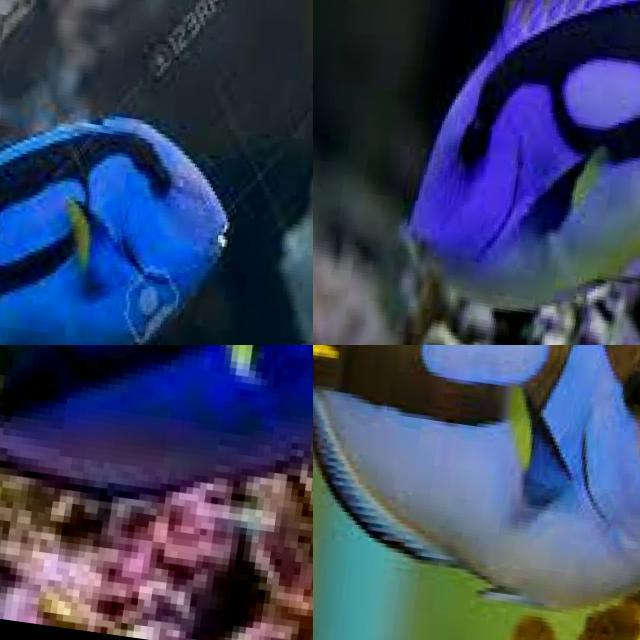BlueTang: (313, 345, 640, 640), (377, 0, 640, 345), (0, 56, 255, 345), (0, 345, 313, 577)
